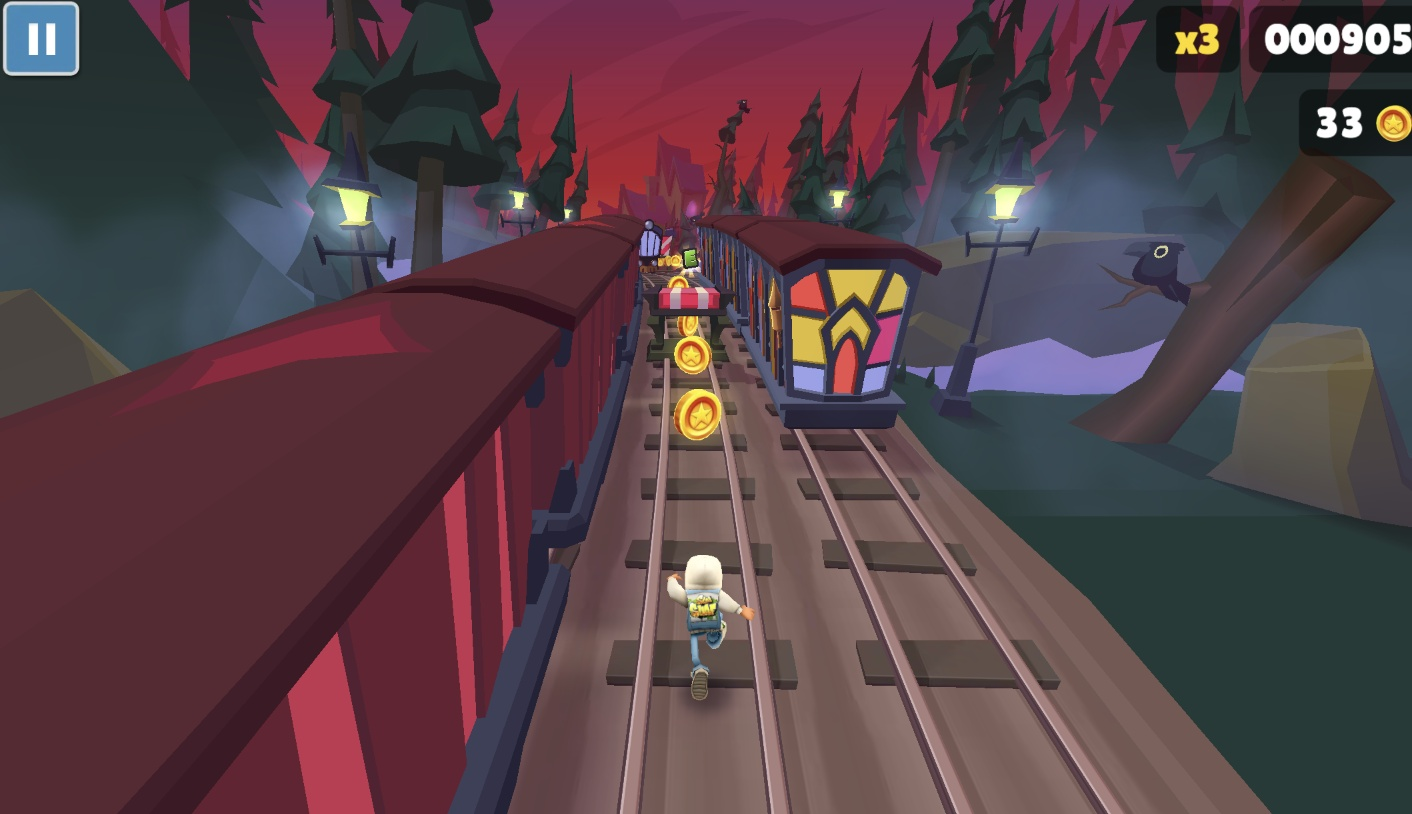ground_barrier: (642, 283, 731, 362)
overhead_barrier: (660, 229, 675, 259)
train: (0, 227, 649, 814), (693, 227, 960, 469), (638, 228, 676, 273)
